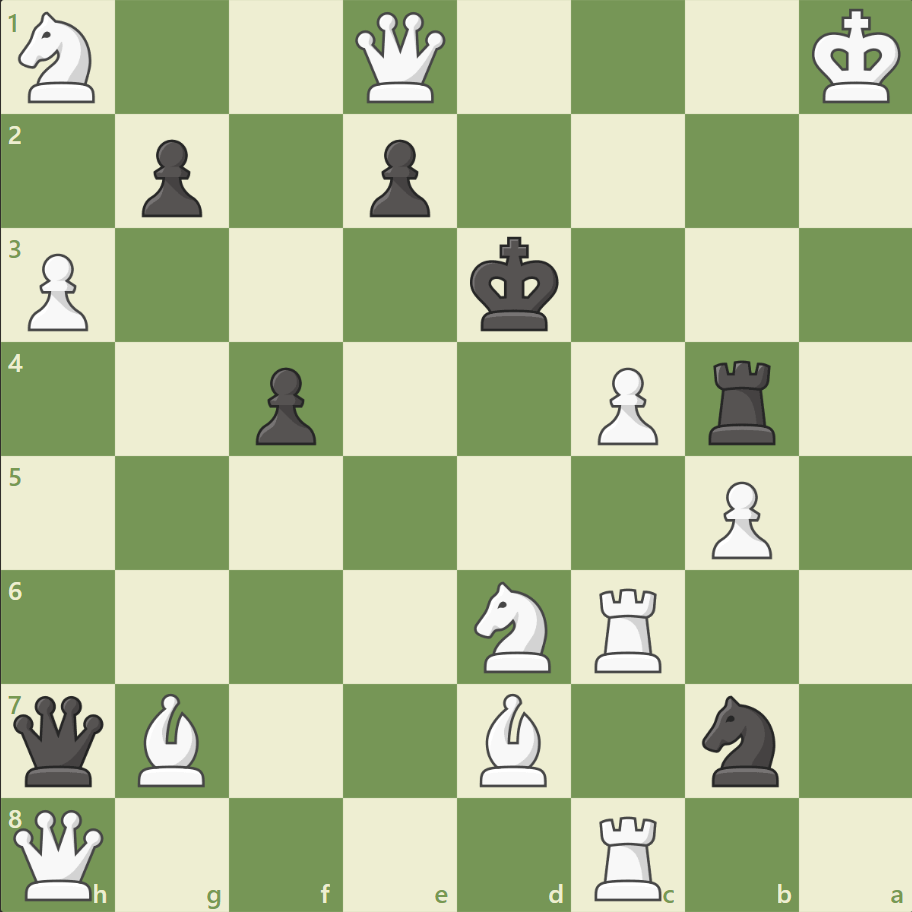B: (471, 687, 555, 790), (131, 687, 215, 790)
K: (806, 4, 906, 112)
N: (11, 7, 108, 110), (465, 575, 562, 677)
P: (701, 473, 776, 564), (20, 246, 95, 337), (588, 359, 662, 450)
Q: (10, 804, 109, 903), (351, 9, 450, 108)
R: (587, 806, 670, 904), (587, 579, 670, 676)
k: (465, 231, 565, 339)
n: (692, 688, 789, 791)
p: (247, 359, 322, 450), (133, 132, 208, 223), (361, 132, 435, 223)
q: (10, 690, 109, 789)
r: (700, 352, 783, 449)
